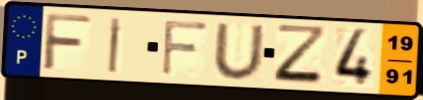4: (330, 26, 376, 90)
F: (40, 11, 94, 73), (159, 18, 211, 78)
I: (106, 15, 125, 75)
U: (211, 22, 267, 82)
Z: (272, 22, 330, 87)
